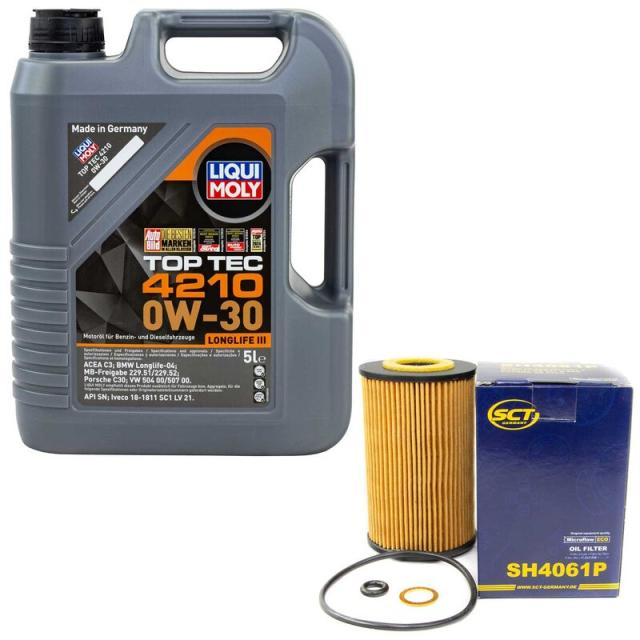motor_oil: (0, 4, 360, 465)
oil_filter: (360, 354, 478, 562)
